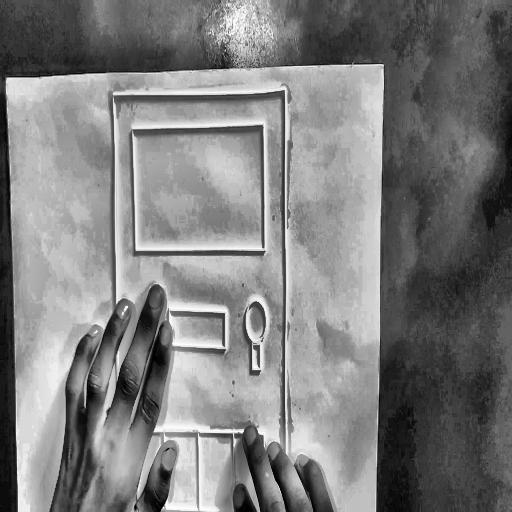door: (108, 81, 295, 512)
top_left: (3, 72, 11, 85)
top_right: (379, 57, 389, 73)
